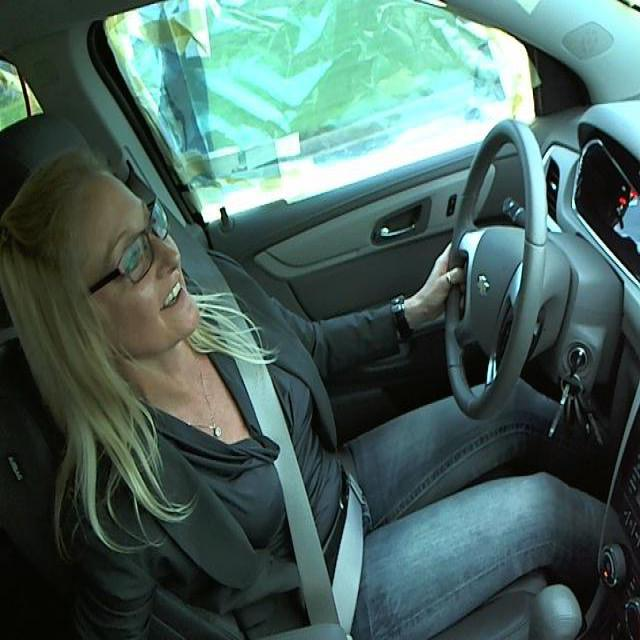seatbelt: (193, 288, 378, 633)
